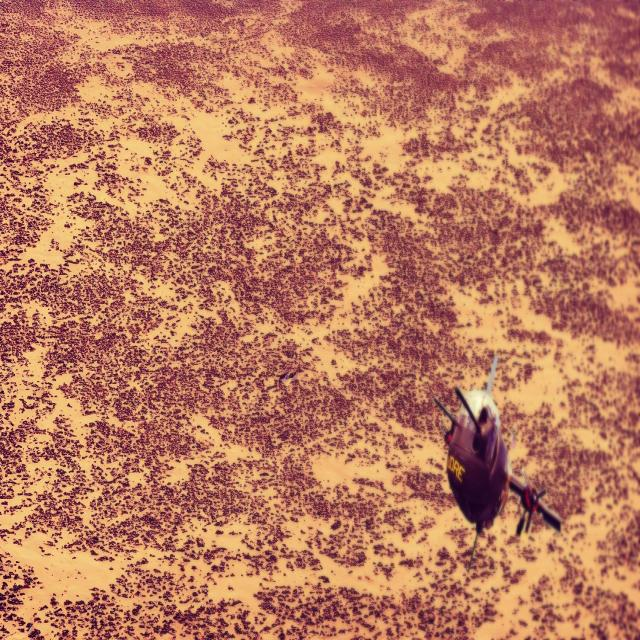airplane: (433, 353, 562, 571)
